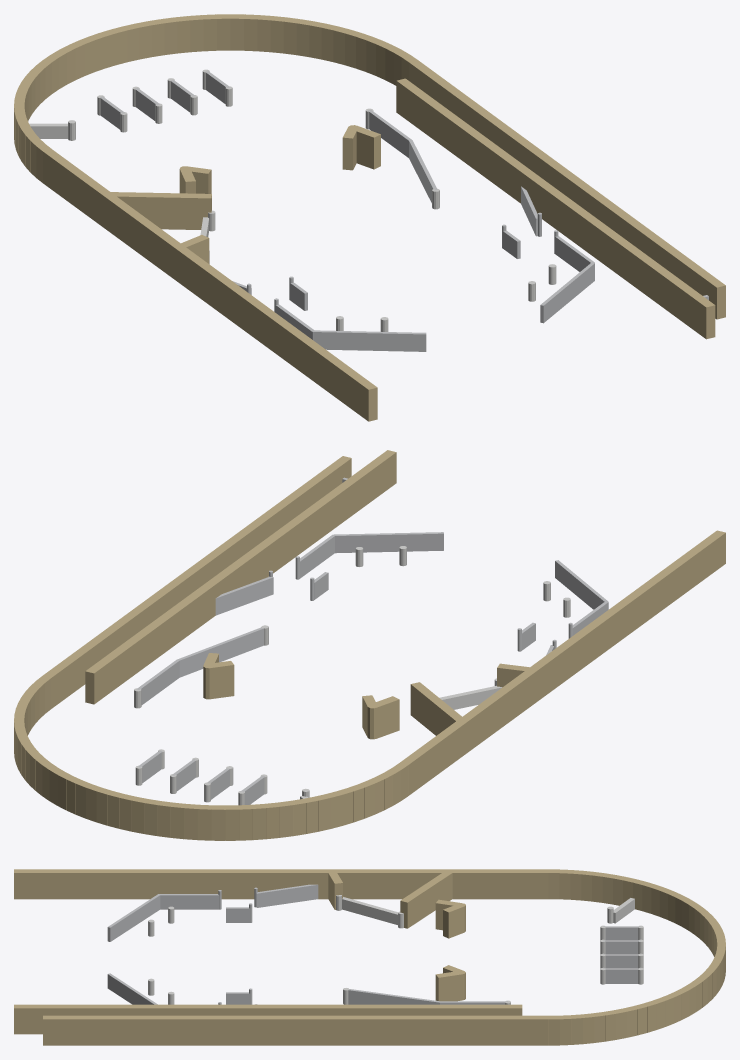
File: Acorn_Guides.glb
3 renders of one model, top to bottom at view 1: azimuth 30°, elevation 25°; view 2: azimuth 150°, elevation 25°; view 3: azimuth 270°, elevation 25°, orthographic. The views are drawn at different scales.
Parts seen in each view (by area): view 1: Guides_Wood, Guides_Metal, Posts_Rubber, Guides_Rubber; view 2: Guides_Wood, Guides_Metal, Posts_Rubber, Guides_Rubber; view 3: Guides_Wood, Guides_Metal, Posts_Rubber, Guides_Rubber.
Part boxes in pixels (box(x1,y1,x2,y2)): Guides_Wood: box(14, 14, 725, 421); Guides_Metal: box(99, 70, 708, 351); Posts_Rubber: box(68, 69, 556, 331); Guides_Rubber: box(29, 123, 209, 236); Guides_Wood: box(14, 450, 725, 840); Guides_Metal: box(136, 477, 608, 804); Posts_Rubber: box(134, 546, 570, 805); Guides_Rubber: box(300, 685, 502, 799); Guides_Wood: box(14, 869, 725, 1045); Guides_Metal: box(107, 884, 640, 1004); Posts_Rubber: box(148, 895, 643, 1004); Guides_Rubber: box(342, 897, 634, 924).
Size of the model in its own units: 0.6888 by 0.056 by 1.38.
